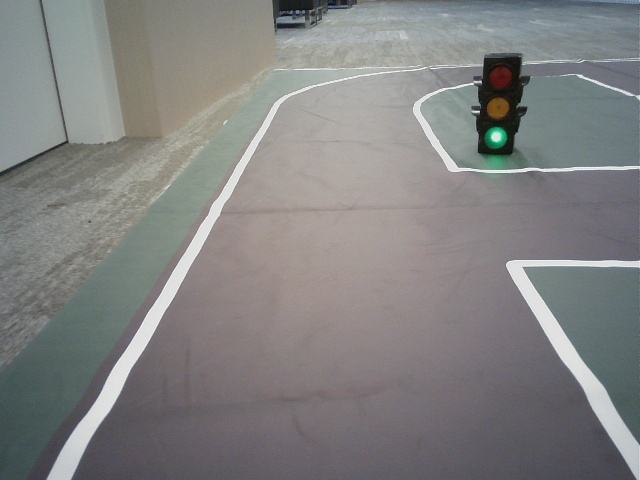green: (482, 58, 512, 151)
